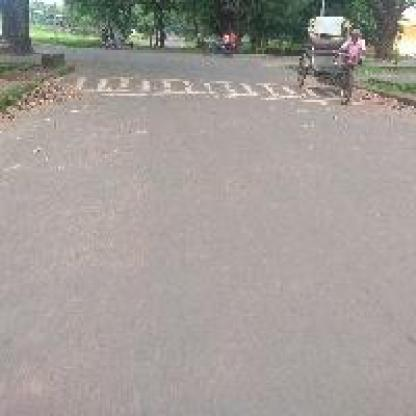Speed Bump: (73, 71, 295, 104)
